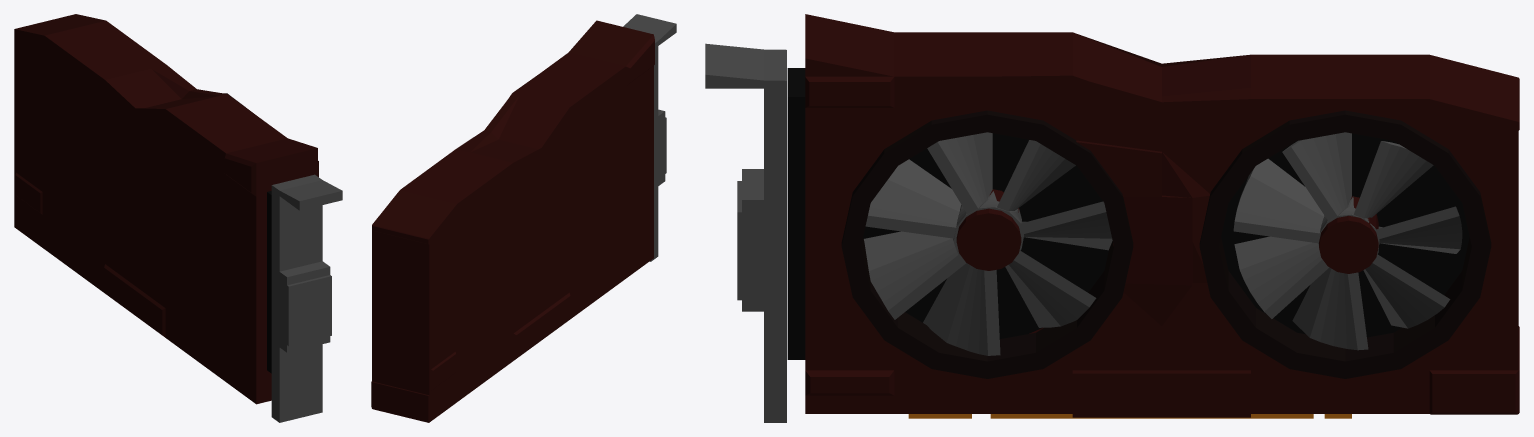
The model's file is Grafikkarte.fbx.
3 renders of one model, left to right at view 1: azimuth 30°, elevation 25°; view 2: azimuth 150°, elevation 25°; view 3: azimuth 270°, elevation 25°, orthographic. The views are drawn at different scales.
Visible parts, largest first — view 1: Grafikkarte; view 2: Grafikkarte; view 3: Grafikkarte.
Part boxes in pixels (x1,y1,x2,y2): Grafikkarte: (14, 14, 342, 422); Grafikkarte: (371, 14, 676, 422); Grafikkarte: (705, 14, 1519, 422).
Size of the model in its own units: 2.73 by 9.22 by 17.88.
